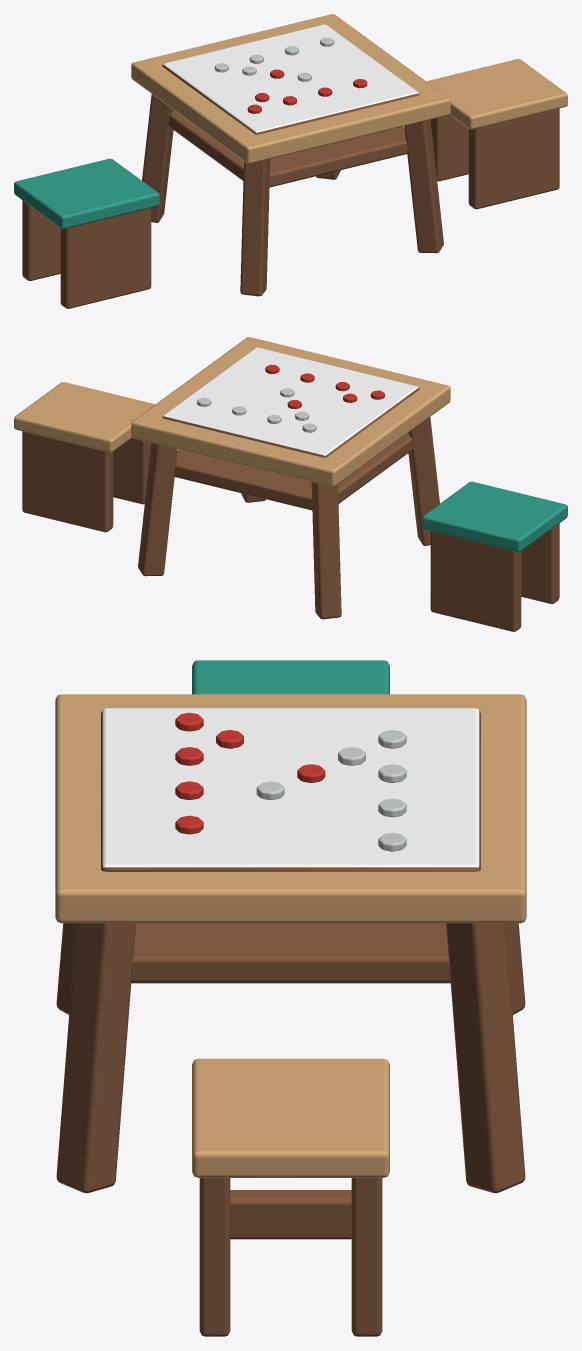
File: prop_table_dama.glb
3 renders of one model, top to bottom at view 1: azimuth 30°, elevation 25°; view 2: azimuth 150°, elevation 25°; view 3: azimuth 270°, elevation 25°, orthographic. The views are drawn at different scales.
Visible parts, largest first — view 1: prop_table_dama; view 2: prop_table_dama; view 3: prop_table_dama.
Part boxes in pixels (x1,y1,x2,y2): prop_table_dama: (14,14,567,308); prop_table_dama: (14,337,567,631); prop_table_dama: (55,660,526,1336).
Bounding box in the file's own units: 1.54 × 0.4673 × 0.62.
